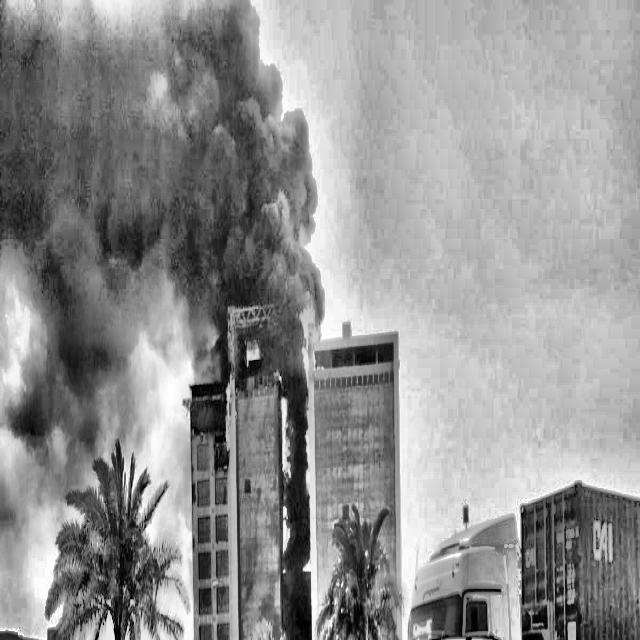fire: (274, 258, 334, 600), (218, 288, 252, 529)
